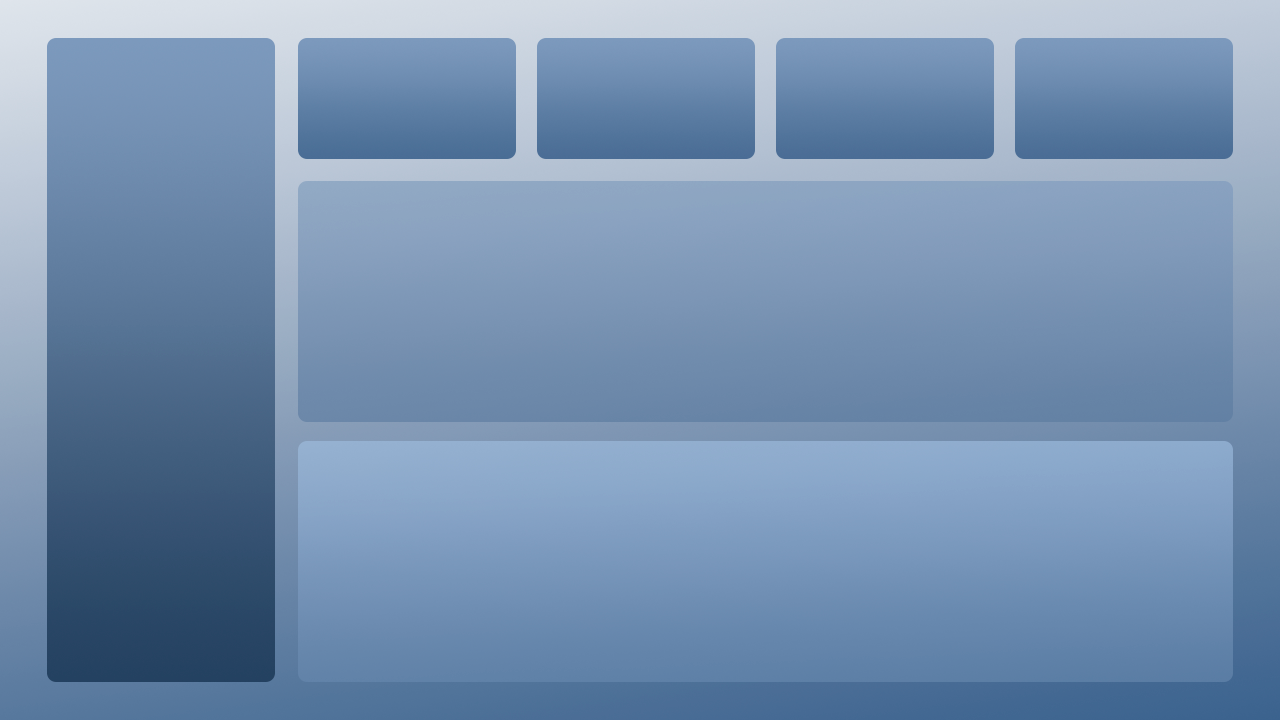

The dashboard page shown, as its layout file describes it:
{"tool":"powerbi","page":{"name":"Cargo por Funcionários","canvas":[1280,720],"ordinal":3},"visuals":[{"type":"pivotTable","title":"Cargo por Funcionários","fields":{"Values":["Medidas.Salário","Medidas.% Folha"],"Columns":["Cargo.CARGO"],"Rows":["Colaboradores.FUNCIONÁRIO"]},"box":[0,138.9,1279.8,581.1],"z":0},{"type":"slicer","fields":{"Values":["Cargo.CARGO"]},"box":[0,0,569.6,82.7],"z":1000},{"type":"slicer","title":"Data de Contratação","fields":{"Values":["Calendário.Date"]},"box":[925.5,0,354.3,82.2],"z":2000},{"type":"slicer","title":"Ano de Contratação","fields":{"Values":["Calendário.Year"]},"box":[579.7,0,326,82.2],"z":3000}]}

Visuals, with their boxes in screenshot pixels (x1, y1, x2, y2), scaled from the page's 1280x720 canvas onto the 1280x720 screenshot:
"Cargo por Funcionários" pivotTable: <region>0, 139, 1279, 719</region>
slicer - Cargo.CARGO: <region>0, 0, 570, 83</region>
"Data de Contratação" slicer: <region>926, 0, 1279, 82</region>
"Ano de Contratação" slicer: <region>580, 0, 906, 82</region>
